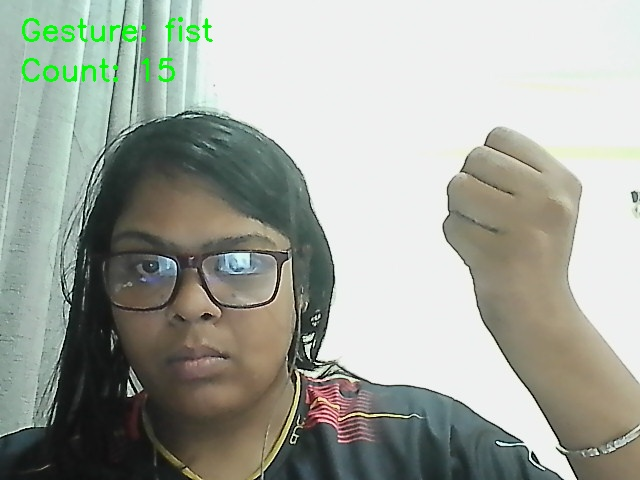fist: (404, 61, 612, 328)
